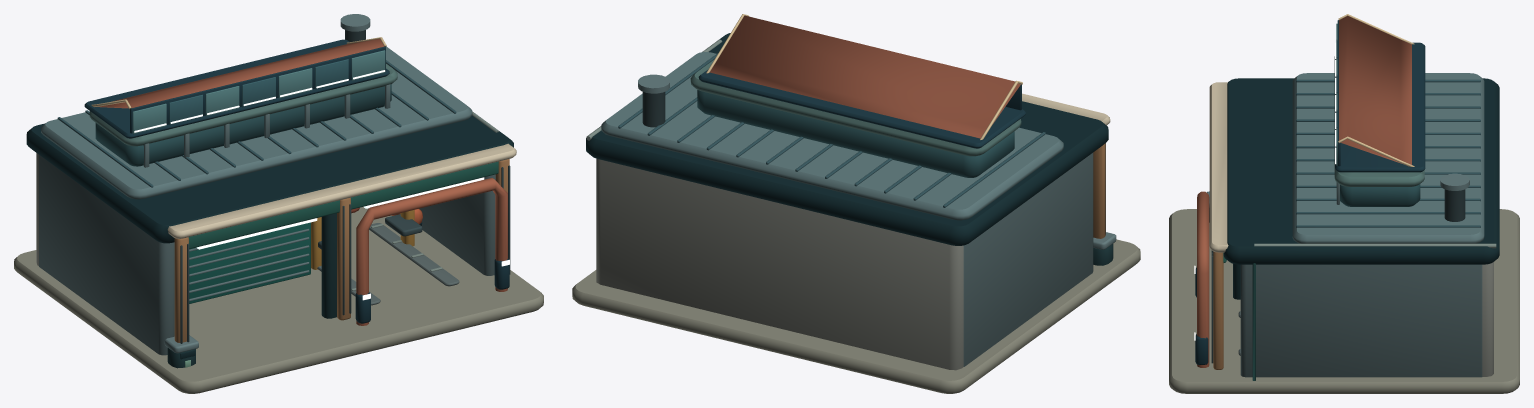
The model's file is workshop.glb.
3 renders of one model, left to right at view 1: azimuth 30°, elevation 25°; view 2: azimuth 150°, elevation 25°; view 3: azimuth 270°, elevation 25°, orthographic. The views are drawn at different scales.
Visible parts, largest first — view 1: Workshop; view 2: Workshop; view 3: Workshop.
Part boxes in pixels (x1,y1,x2,y2): Workshop: [14, 14, 543, 393]; Workshop: [572, 14, 1140, 393]; Workshop: [1169, 14, 1519, 393].
Bounding box in the file's own units: 7.55 × 4.43 × 6.38.
